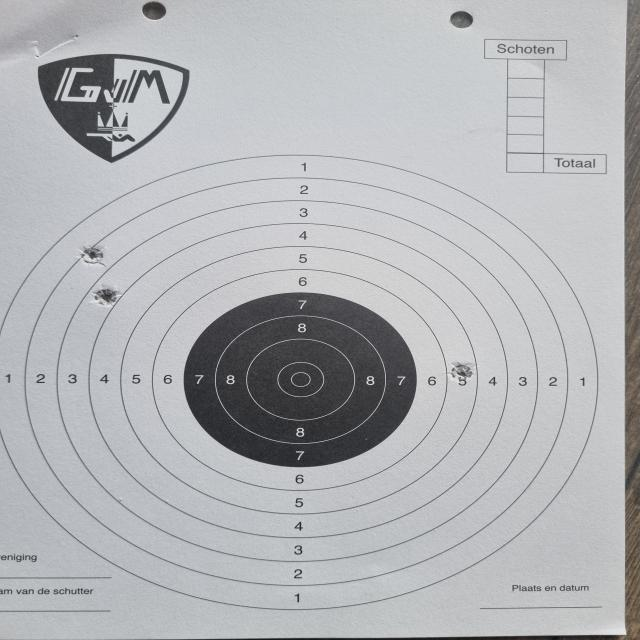3: (77, 246, 104, 264)
4: (94, 288, 118, 306)
7: (443, 362, 478, 380)
Black Contour: (184, 292, 418, 468)
Target: (0, 152, 599, 611)
